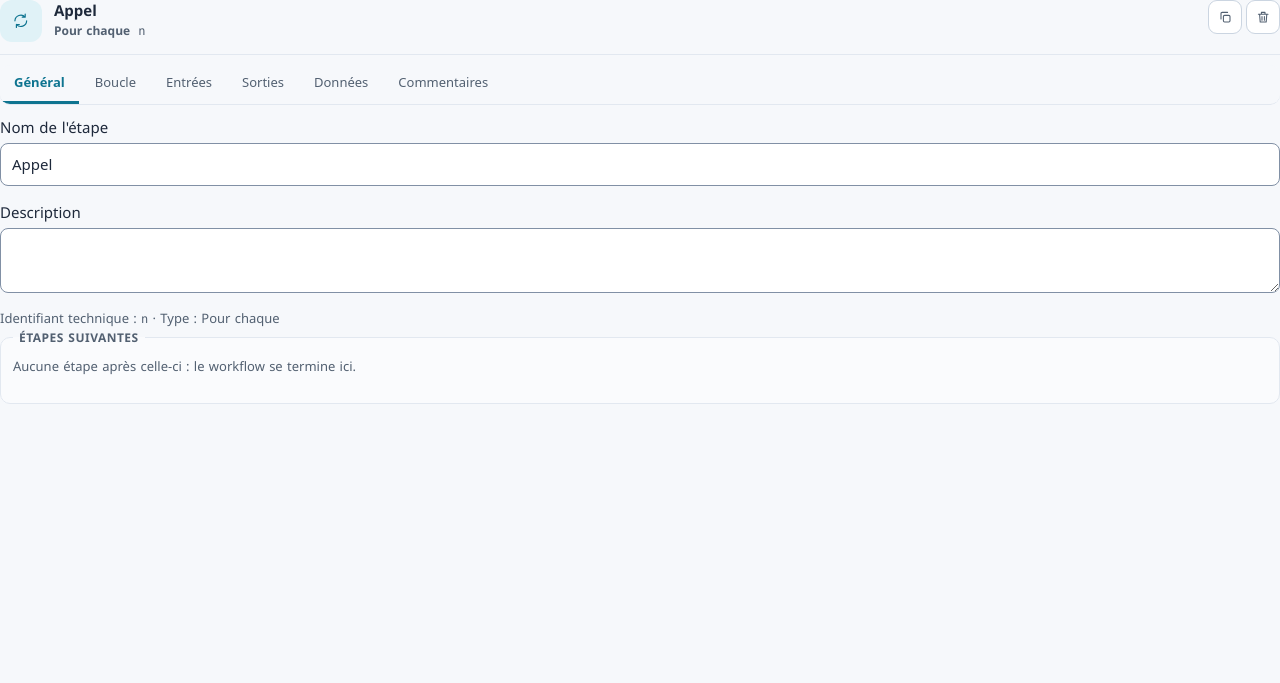
Test: version du workflow appelé — étape foreach › sans version épinglée : le dit clairement et ne choisit rien à la place de la personne
Step 1. Click the tab "Boucle" → click(115, 84), box top-left (81, 65), bottom-right (150, 104)
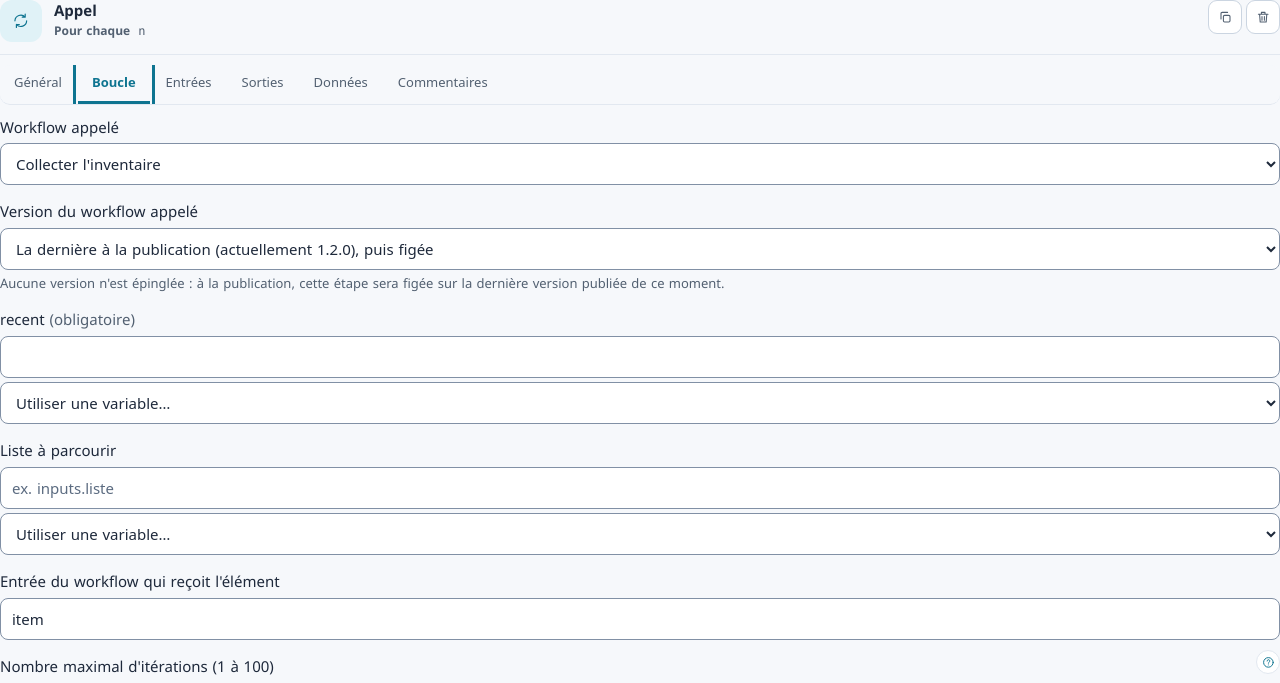
Check: the dropdown labelled "Version du workflow appelé" shows "La dernière à la publication (actuellement 1.2.0), puis figée", box top-left (0, 228), bottom-right (1279, 270)
Check: the text "Aucune version n'est épinglée" is shown, box top-left (0, 274), bottom-right (725, 292)
